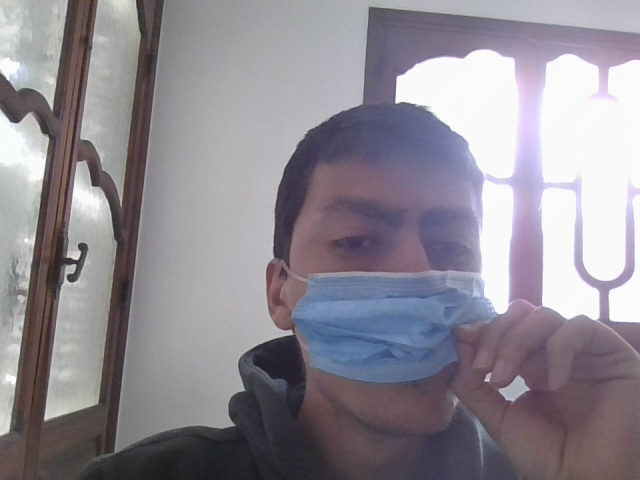mask_weared_incorrect: (288, 130, 509, 442)
